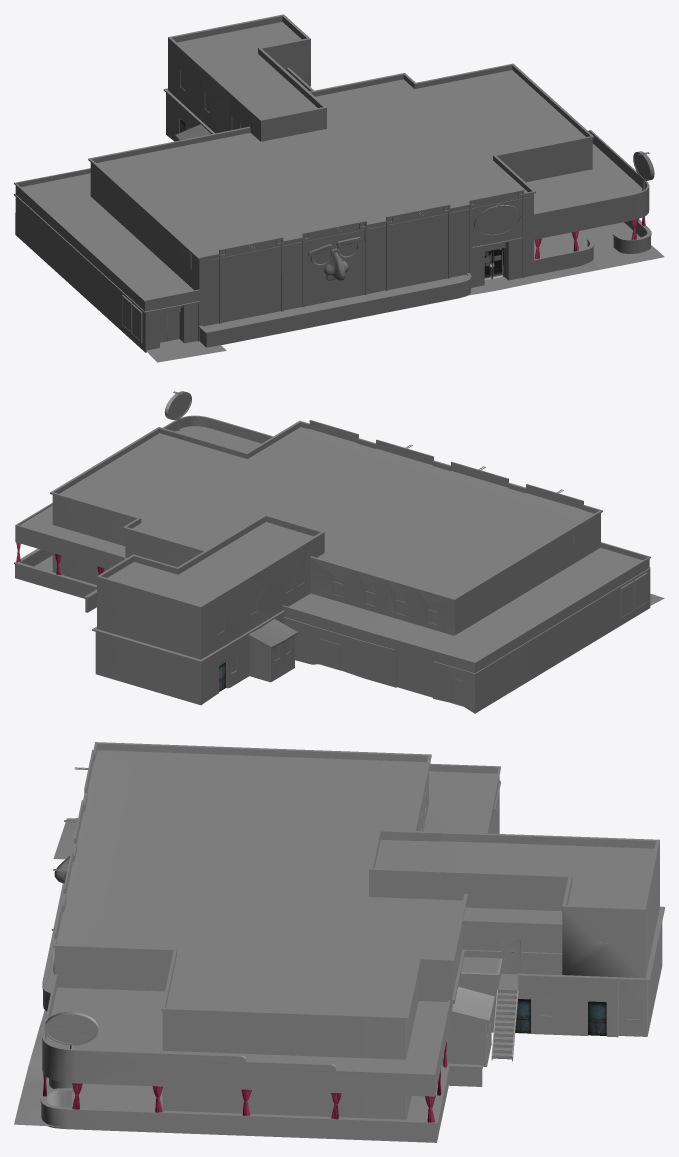
File: Building.fbx
3 renders of one model, top to bottom at view 1: azimuth 30°, elevation 25°; view 2: azimuth 150°, elevation 25°; view 3: azimuth 270°, elevation 25°, orthographic. The views are drawn at different scales.
Parts seen in each view (by area): view 1: ss1_12_bld4; view 2: ss1_12_bld4; view 3: ss1_12_bld4.
Part boxes in pixels (x1,y1,x2,y2): ss1_12_bld4: (14,14,664,362); ss1_12_bld4: (14,391,664,713); ss1_12_bld4: (14,742,664,1142).
Size of the model in its own units: 4678 by 876 by 3964.
